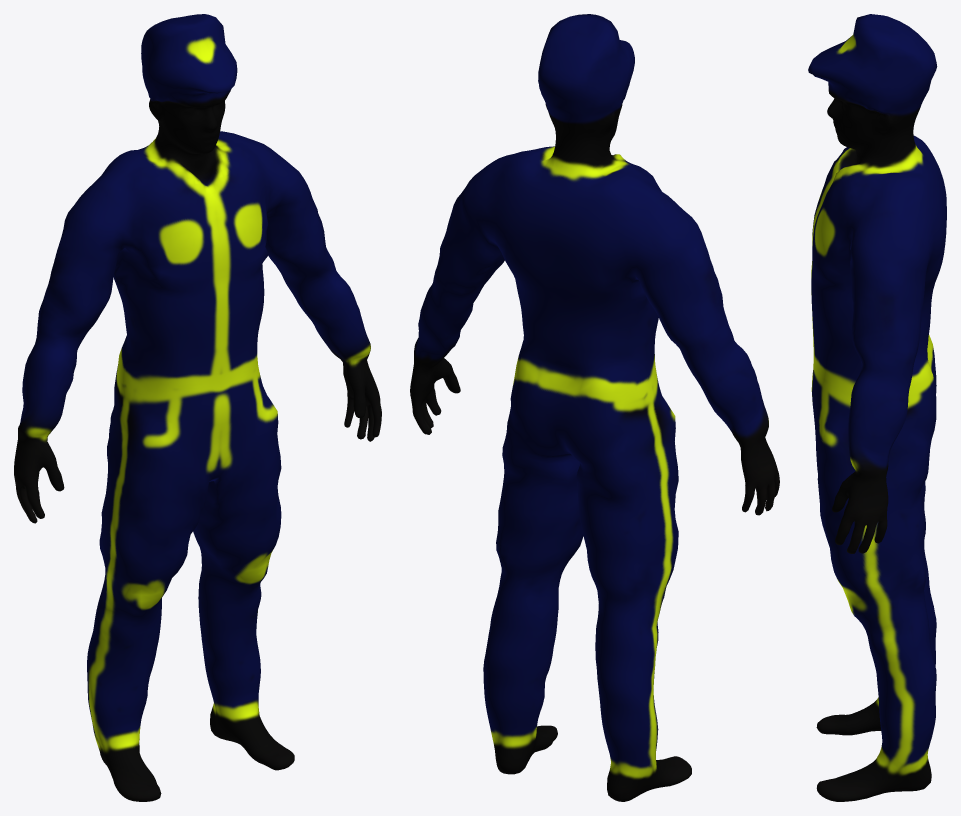
File: policeTST.fbx
The picture shows the model from 3 angles, left to right: view 1: azimuth 30°, elevation 25°; view 2: azimuth 150°, elevation 25°; view 3: azimuth 270°, elevation 25°; orthographic projection.
Parts seen in each view (by area): view 1: humanBody; view 2: humanBody; view 3: humanBody.
Part boxes in pixels (x1,y1,x2,y2): humanBody: (14, 14, 381, 801); humanBody: (410, 14, 779, 801); humanBody: (808, 14, 946, 801).
Bounding box in the file's own units: 95.48 × 190 × 32.29.
1 material, 1 textured.
